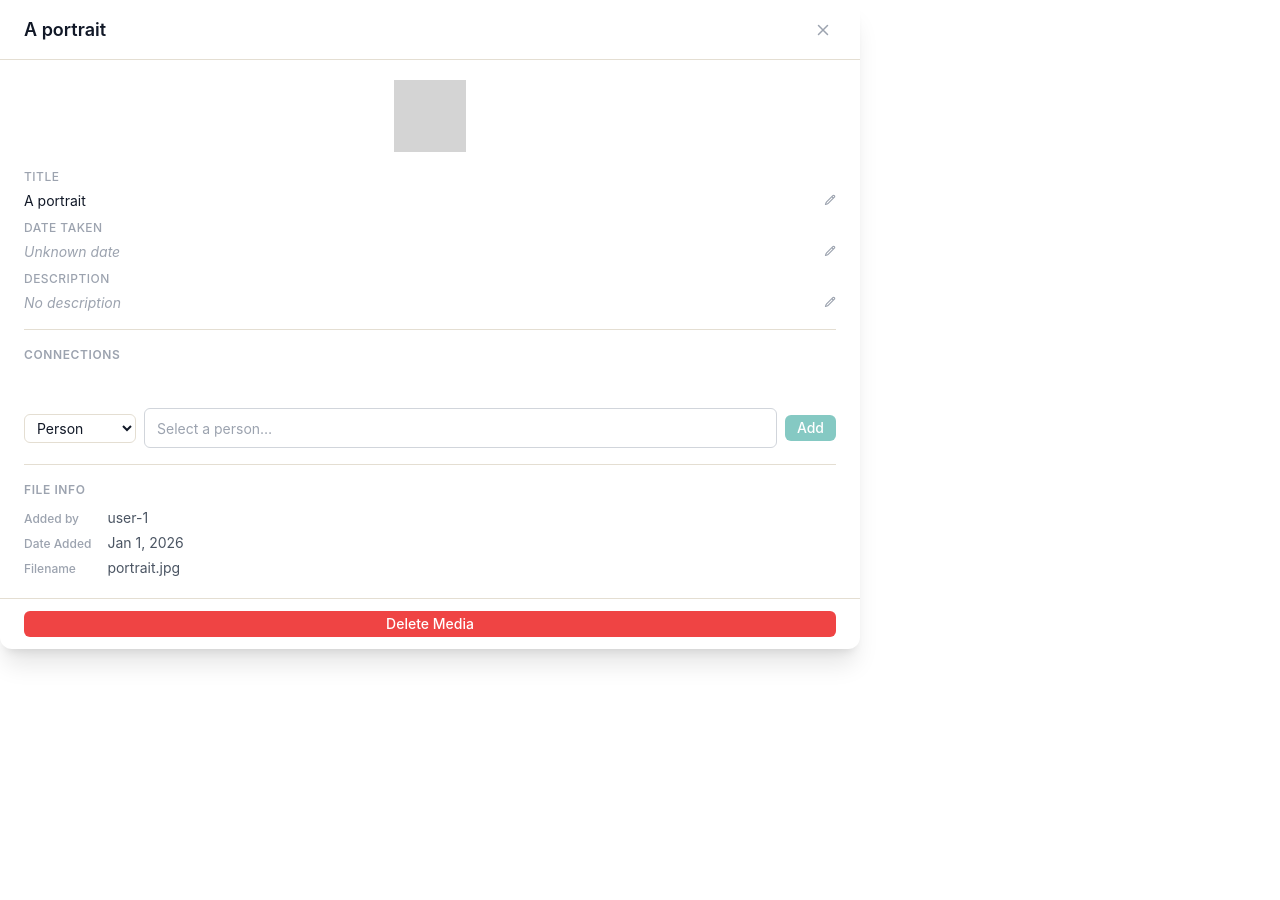
Test: MediaEditor — connecting a person › keeps a list for the link types that have no picker
Expected: the button "Select a person…" is shown, [144, 408, 777, 448]
Select "Event" in the dropdown named "link type". click: (80, 428)
box: [24, 414, 136, 442]
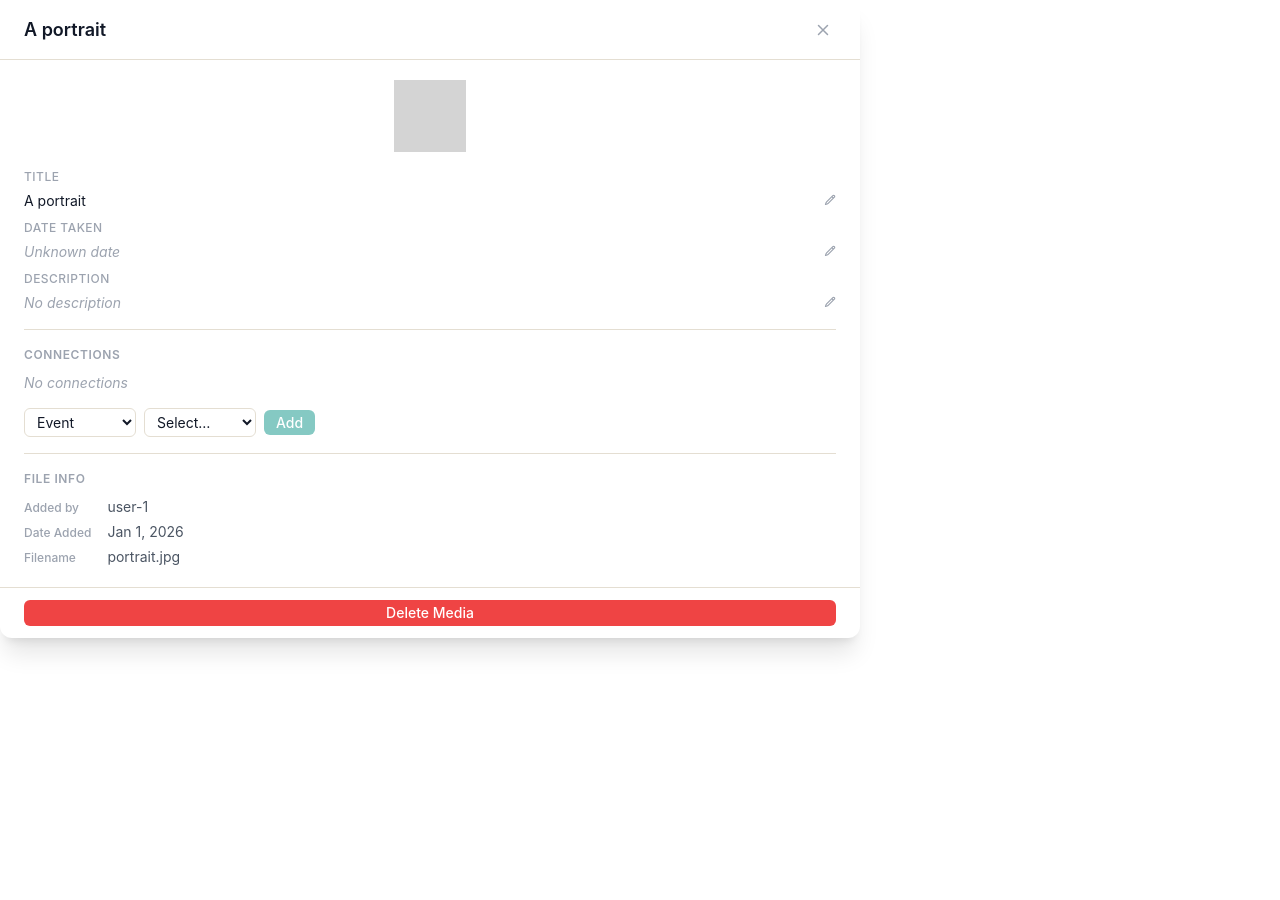
Expected: the dropdown named "select entity to link" is shown, [144, 408, 256, 437]
Expected: the button "Select a person" is gone
